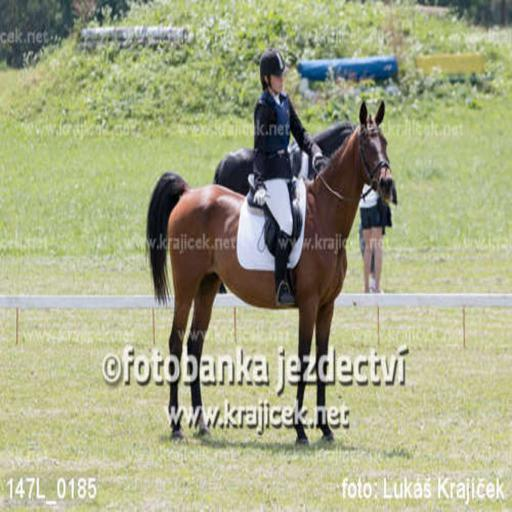Horse: (146, 98, 394, 448), (212, 120, 357, 294)
